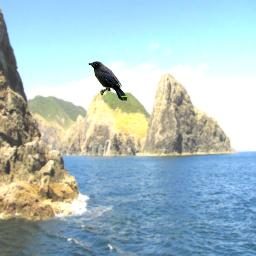Crow: (88, 61, 127, 101)
